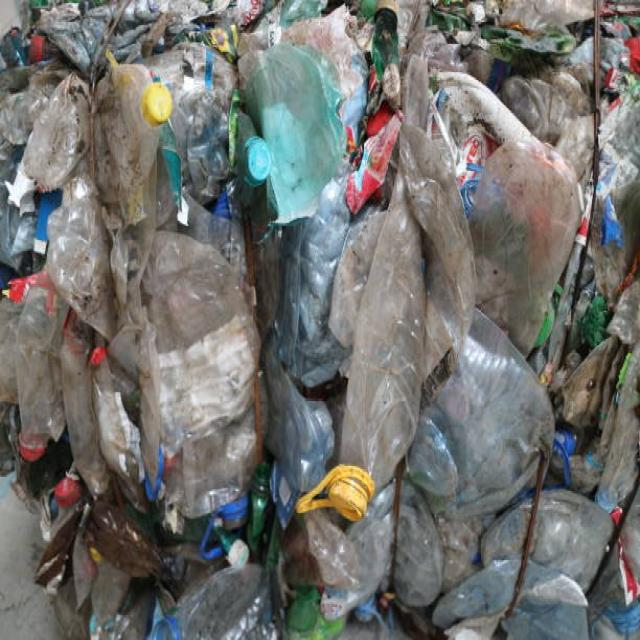plastic: (39, 50, 588, 590)
